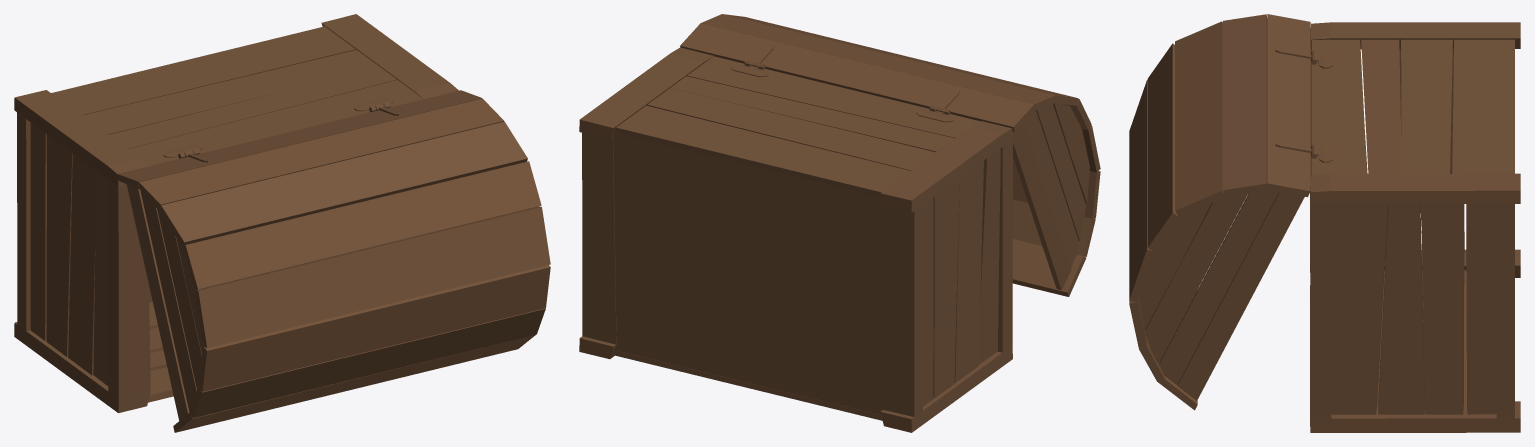
File: Chest_01.fbx
3 renders of one model, left to right at view 1: azimuth 30°, elevation 25°; view 2: azimuth 150°, elevation 25°; view 3: azimuth 270°, elevation 25°, orthographic. The views are drawn at different scales.
Visible parts, largest first — view 1: coffre couvercle, coffre; view 2: coffre, coffre couvercle; view 3: coffre, coffre couvercle.
Boxes of the visible parts, left/top/right/bottom form: coffre couvercle: left=117, top=90, right=550, bottom=432; coffre: left=14, top=14, right=458, bottom=413; coffre: left=579, top=47, right=1012, bottom=432; coffre couvercle: left=680, top=14, right=1100, bottom=296; coffre: left=1310, top=22, right=1520, bottom=432; coffre couvercle: left=1129, top=14, right=1316, bottom=410.
Size of the model in its own units: 86.76 by 59.68 by 84.76.
